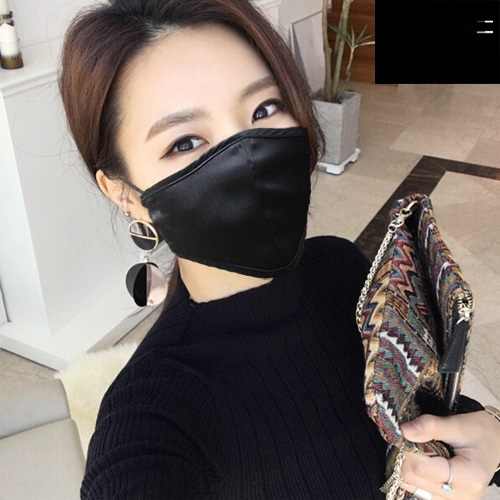face_mask: (133, 26, 309, 274)
